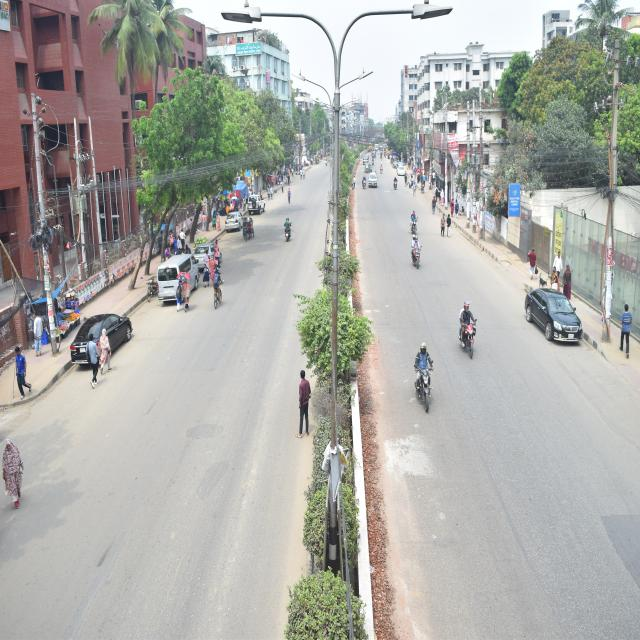car: (503, 275, 585, 364), (58, 306, 156, 379), (226, 193, 254, 254), (192, 227, 219, 282), (246, 178, 271, 225), (365, 169, 379, 196)
microbus: (153, 236, 209, 308)
motorbike: (398, 316, 458, 438), (444, 291, 491, 379), (277, 206, 307, 259), (403, 230, 430, 278), (406, 209, 433, 241), (387, 165, 401, 192), (377, 161, 387, 176), (360, 173, 367, 194)
